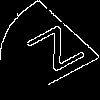Z: (25, 25, 97, 80)
